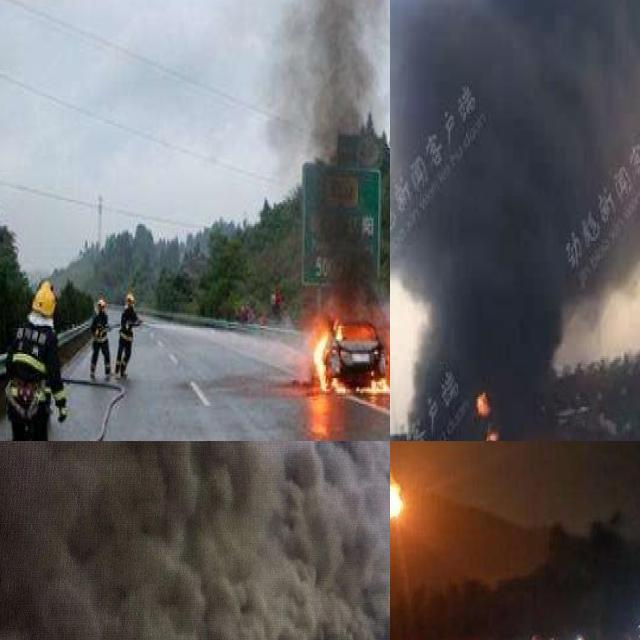fire: (310, 309, 390, 396), (468, 386, 500, 441), (390, 468, 408, 528)
smoke: (390, 0, 640, 434), (0, 441, 390, 640), (277, 0, 387, 317)
